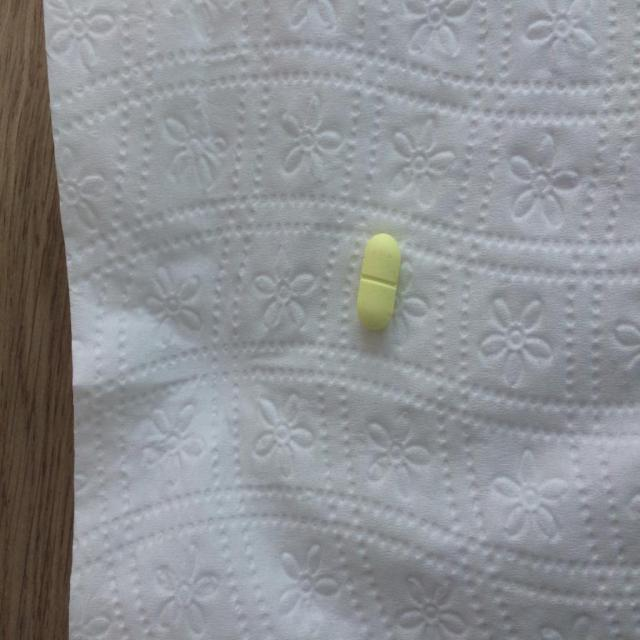pills: (348, 222, 403, 344)
